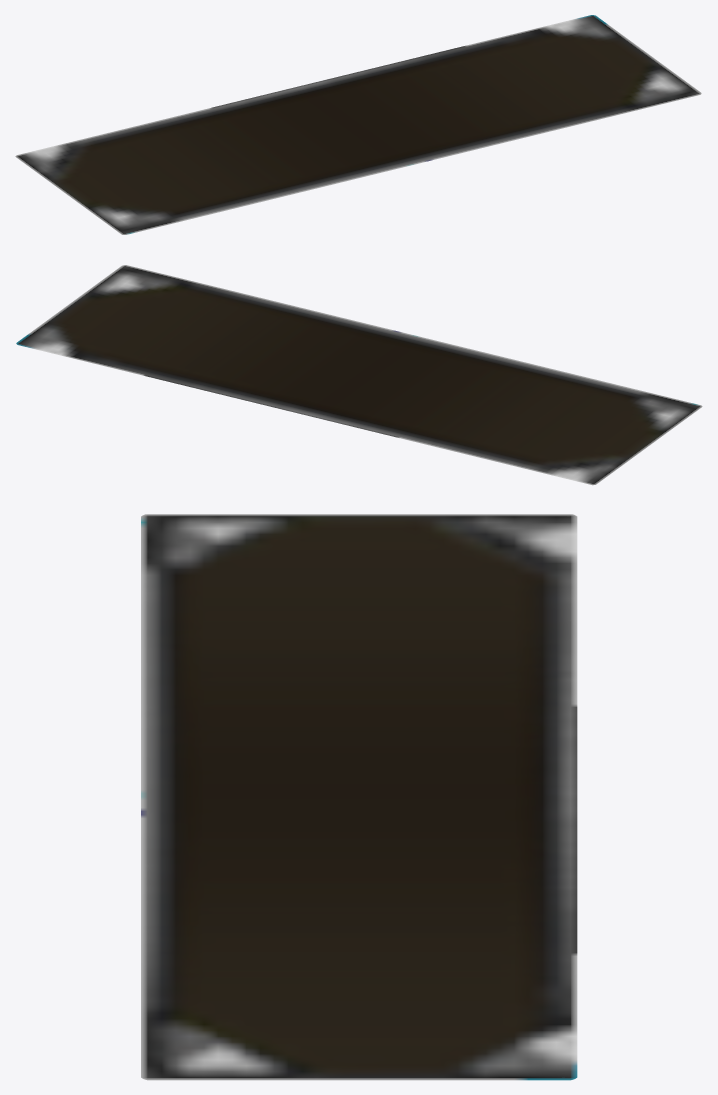
The model's file is txtBg.FBX.
The picture shows the model from 3 angles, top to bottom: view 1: azimuth 30°, elevation 25°; view 2: azimuth 150°, elevation 25°; view 3: azimuth 270°, elevation 25°; orthographic projection. The views are drawn at different scales.
Parts seen in each view (by area): view 1: Plane003; view 2: Plane003; view 3: Plane003.
Part boxes in pixels (x1=…): Plane003: x1=15, y1=15, x2=701, y2=234; Plane003: x1=16, y1=265, x2=702, y2=485; Plane003: x1=141, y1=514, x2=577, y2=1080.
Bounding box in the file's own units: 96.44 × 8.92e-15 × 31.48.
